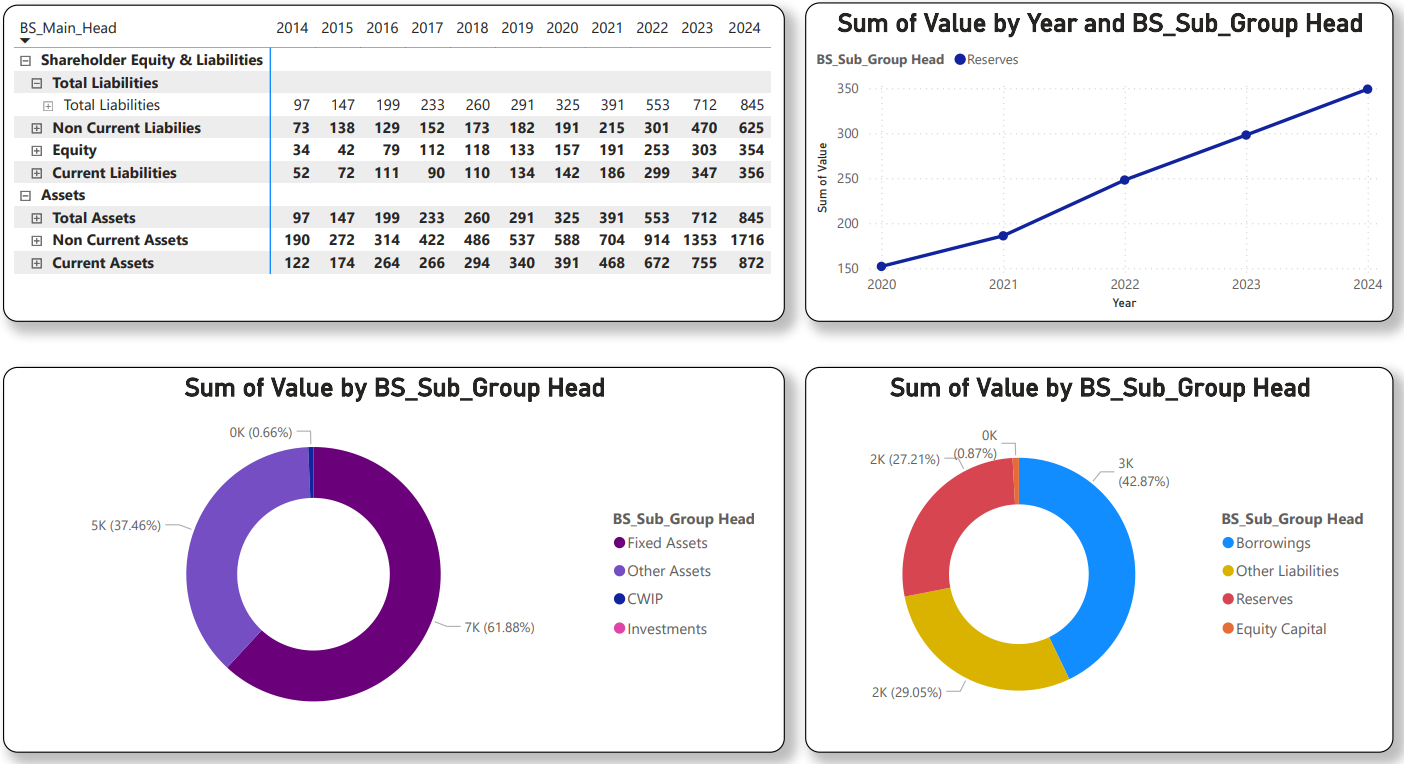

What the dashboard file says about the page in this screenshot:
{"tool":"powerbi","page":{"name":"Balance Sheet","canvas":[1280,720],"ordinal":5},"visuals":[{"type":"pivotTable","fields":{"Rows":["BS Fact.BS_Main_Head","BS Fact.BS_Group_Head","BS Fact.BS_Sub_Group Head","BS Fact.BS_Node Head"],"Columns":["Date Dim.Date.Variation.Date Hierarchy.Year"],"Values":["Sum(BS Fact.Value)"]},"box":[24.1,20.5,694.9,282.3],"z":0},{"type":"lineChart","fields":{"Category":["Date Dim.Date.Variation.Date Hierarchy.Year"],"Y":["Sum(BS Fact.Value)"],"Series":["BS Fact.BS_Sub_Group Head"]},"box":[737.1,19.3,522.4,283.5],"z":1000},{"type":"donutChart","fields":{"Category":["BS Dim.BS_Sub_Group Head"],"Y":["Sum(BS Fact.Value)"]},"box":[24.1,342.6,694.9,343.8],"z":2000},{"type":"donutChart","fields":{"Category":["BS Dim.BS_Sub_Group Head"],"Y":["Sum(BS Fact.Value)"]},"box":[737.1,342.6,522.4,343.8],"z":3000}]}

Visuals, with their boxes on the page's 1280x720 design canvas (x1, y1, x2, y2). These are canvas units, not pixel positions in the 1404x764 screenshot, which may show the page scaled, cropped or inside an application window:
pivotTable - BS Fact.BS_Main_Head x BS Fact.BS_Group_Head: <region>24, 20, 719, 303</region>
lineChart - Date Dim.Date.Variation.Date Hierarchy.Year x Sum(BS Fact.Value): <region>737, 19, 1260, 303</region>
donutChart - BS Dim.BS_Sub_Group Head x Sum(BS Fact.Value): <region>24, 343, 719, 686</region>
donutChart - BS Dim.BS_Sub_Group Head x Sum(BS Fact.Value): <region>737, 343, 1260, 686</region>
